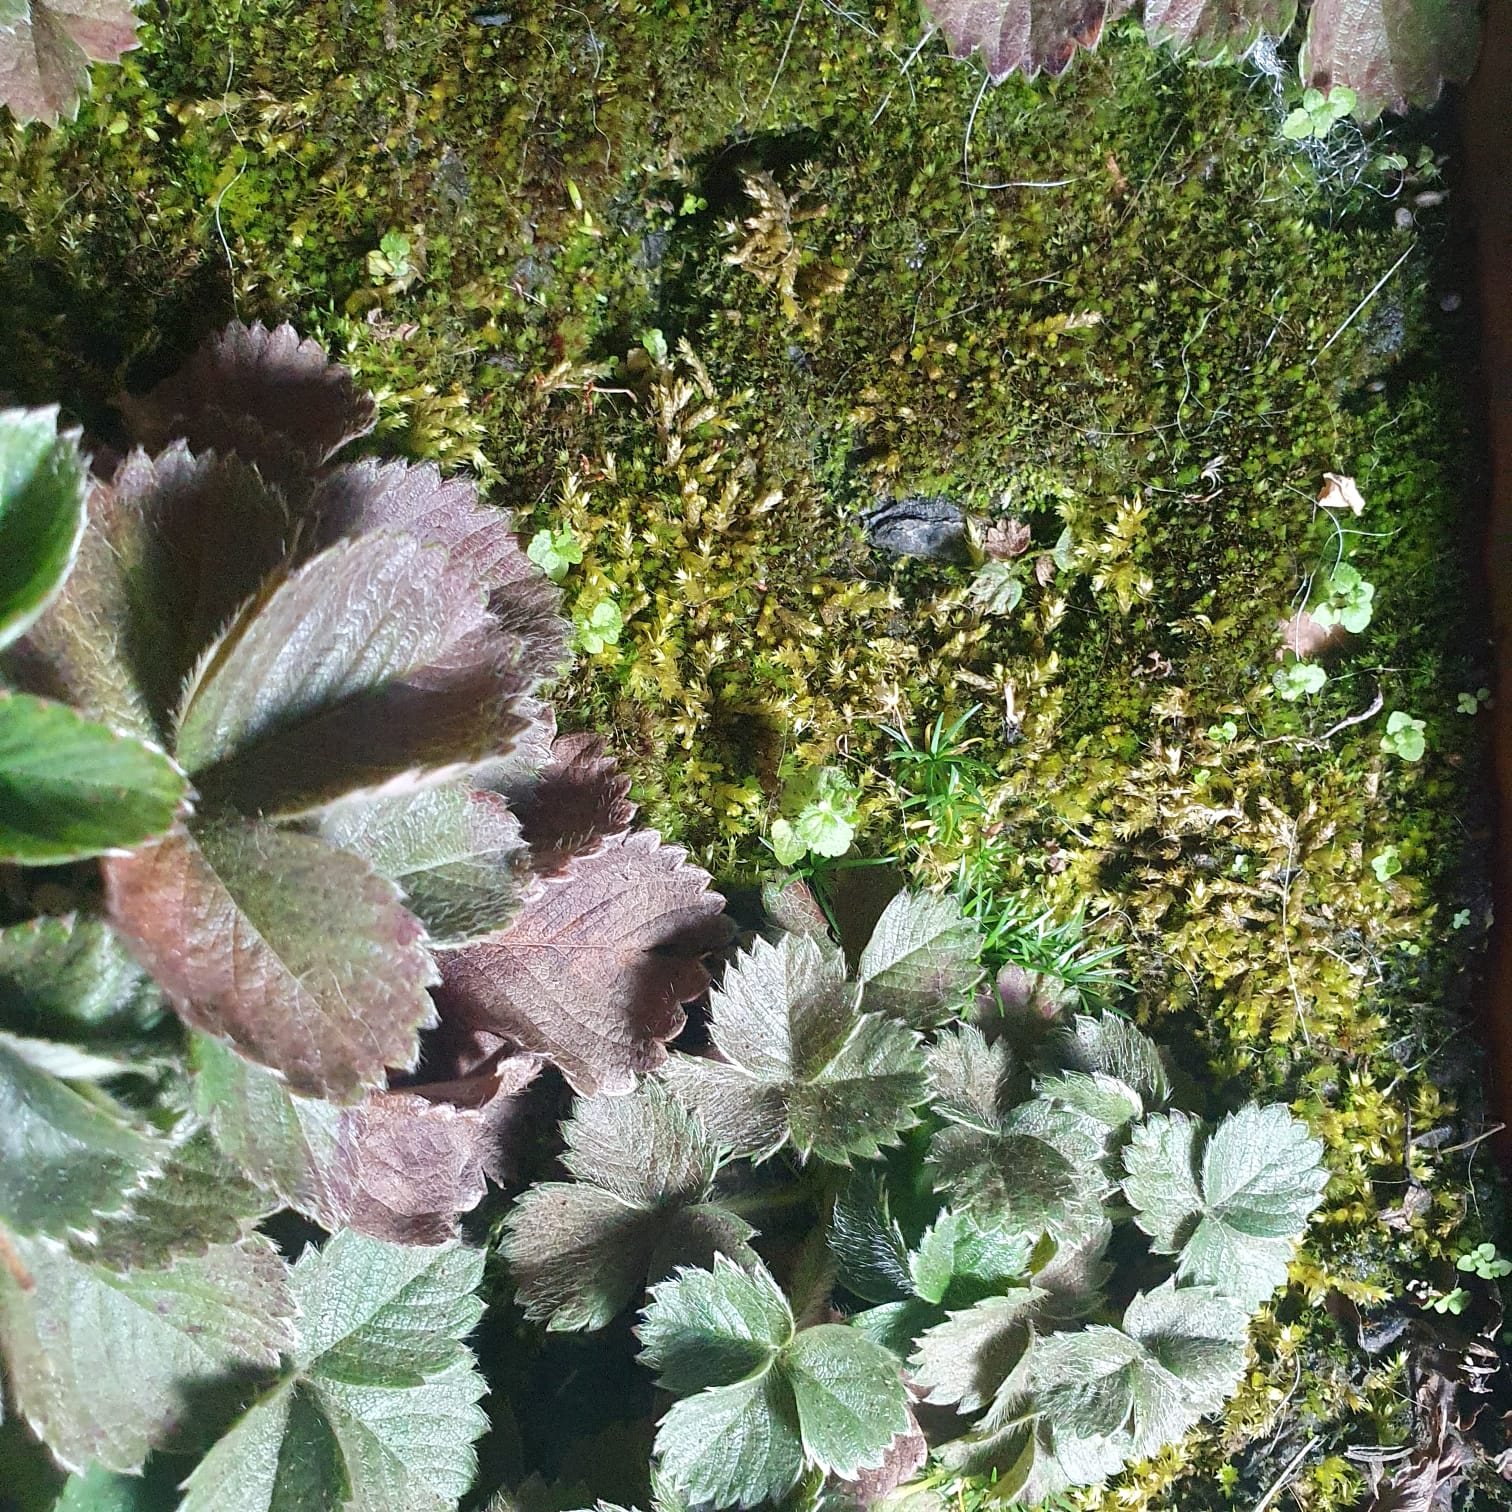tizon_tardio: (143, 397, 690, 1202)
